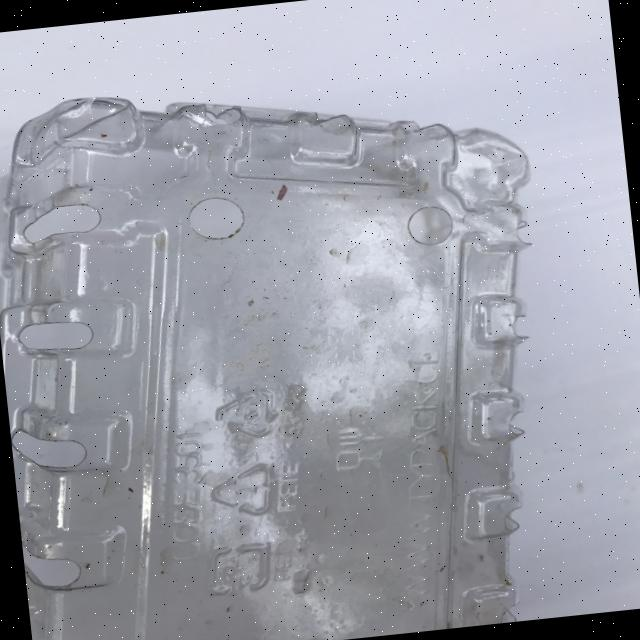plastic: (0, 50, 576, 640)
